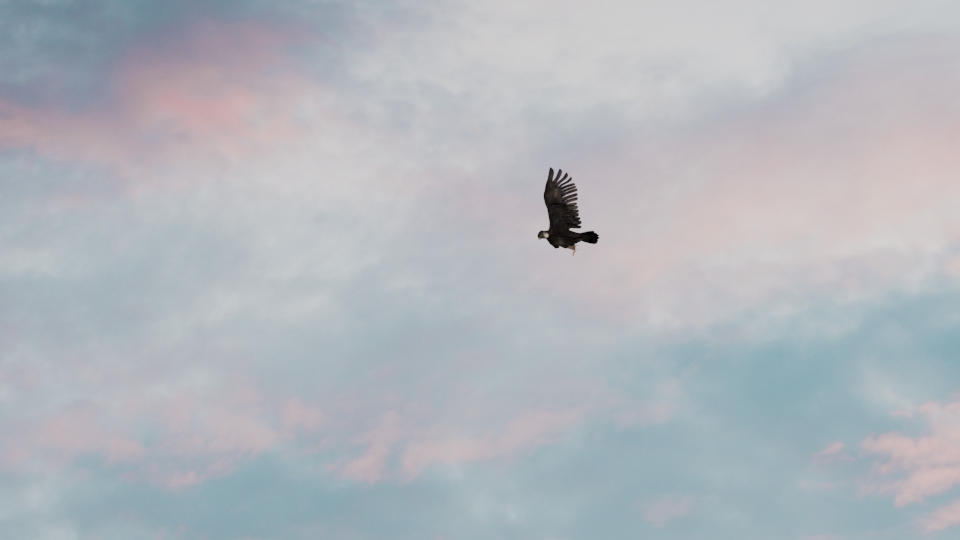bird: (538, 169, 596, 260)
